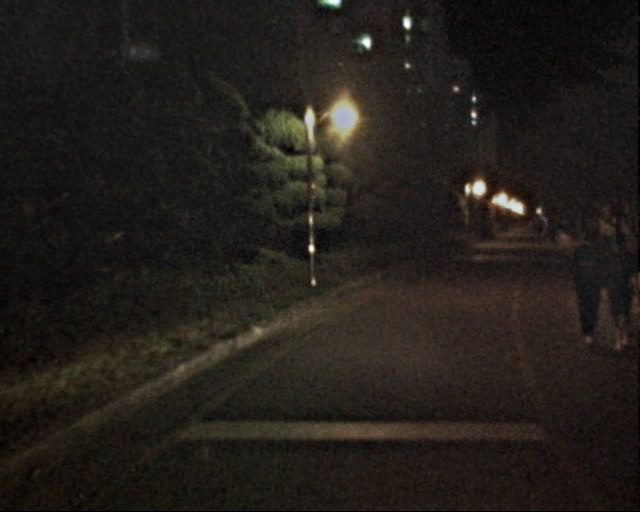person: (559, 231, 610, 350), (592, 232, 640, 351)
